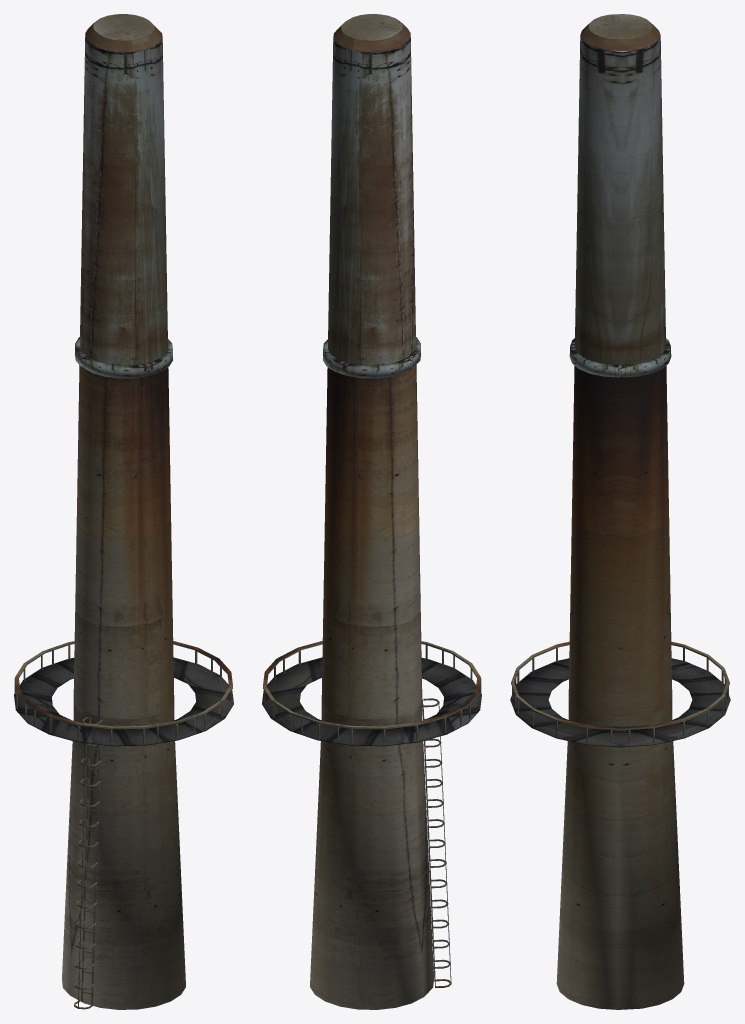
Rendered from industrial7.obj.
3 views of the same model, side by side, from view 1: azimuth 30°, elevation 25°; view 2: azimuth 150°, elevation 25°; view 3: azimuth 270°, elevation 25° (orthographic).
Parts seen in each view (by area): view 1: industrial7; view 2: industrial7; view 3: industrial7.
Part boxes in pixels (left/top/right/bottom): industrial7: left=14, top=14, right=233, bottom=1009; industrial7: left=262, top=14, right=481, bottom=1009; industrial7: left=510, top=14, right=730, bottom=1009.
Size of the model in its own units: 310 by 1471 by 307.
Materials: 1 (1 with a texture image).
